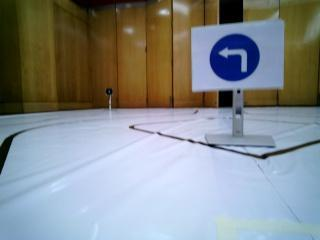left: (188, 25, 284, 92)
